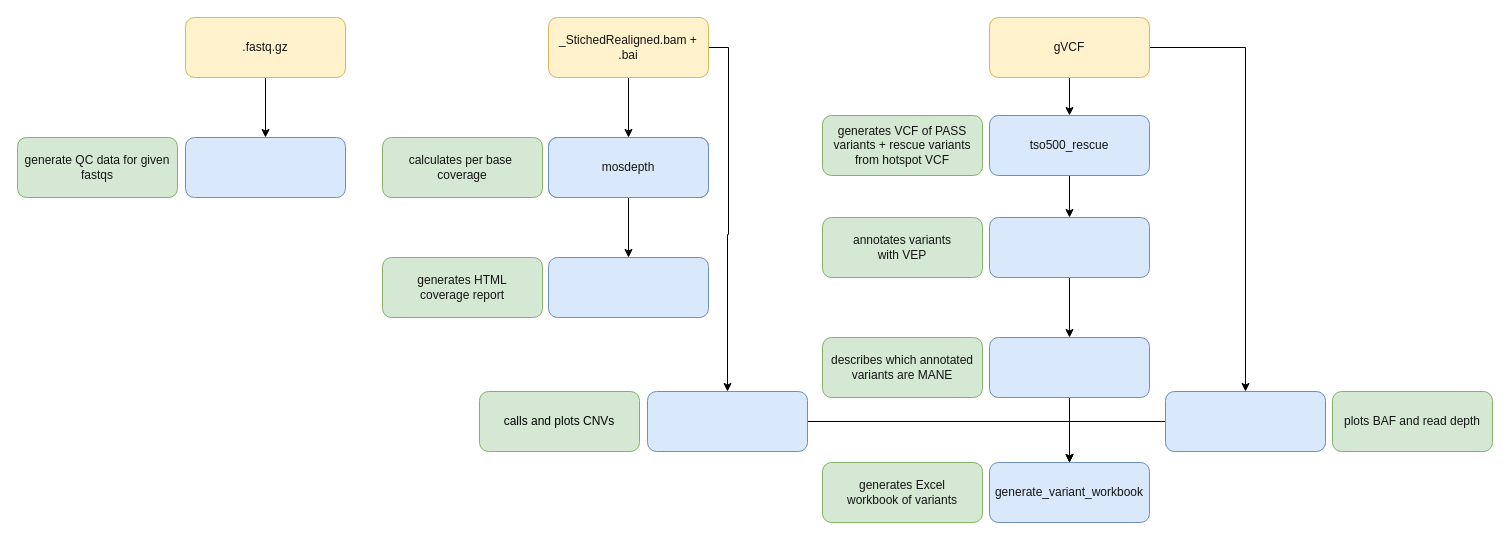
The diagram is 1510 pixels wide and 540 high, and some of its shapes have lost their labels. Here are the shapes that lost their labels. From the top down, the centre of each, then its label:
At pixel 265 167: "multi_fastqc".
At pixel 1069 247: "vep".
At pixel 628 287: "athena".
At pixel 1069 367: "add_MANE_annotation".
At pixel 727 421: "CNVkit".
At pixel 1245 421: "plot_variant_baf".
